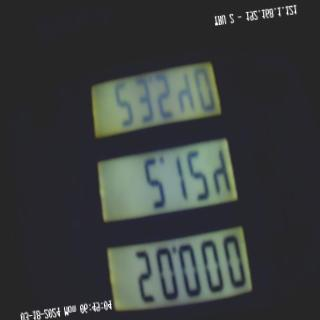screen: (73, 21, 262, 320)
